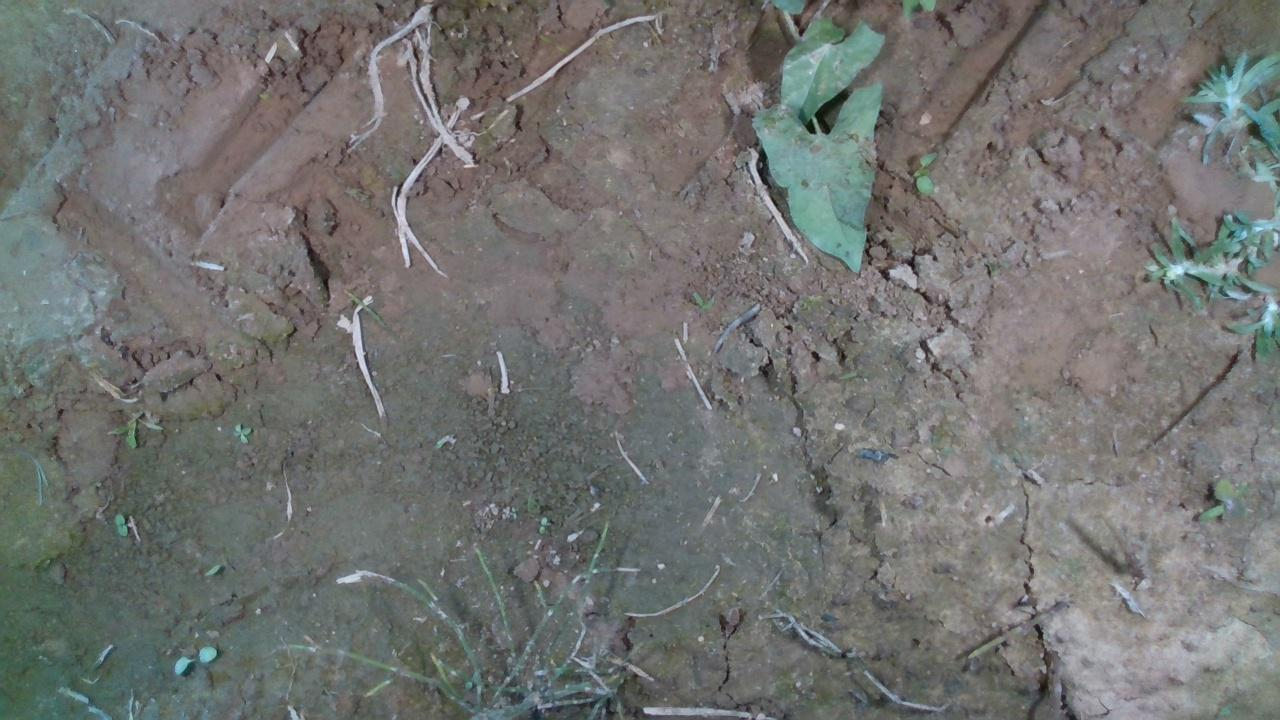weed: (171, 644, 217, 676), (913, 148, 938, 198), (230, 421, 251, 444), (113, 512, 127, 536)
